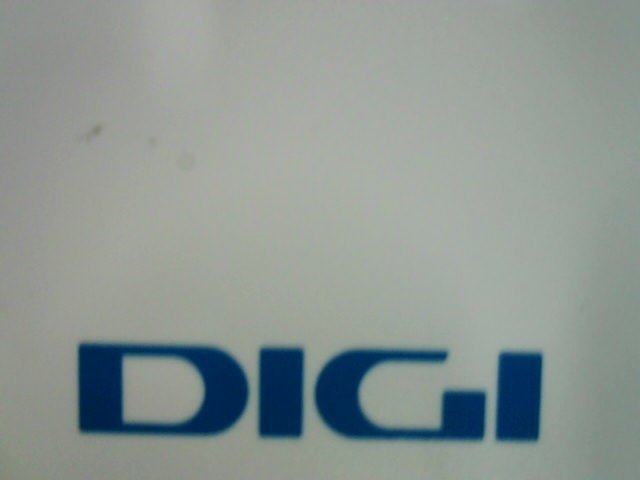BL_DIGI: (65, 323, 545, 448)
